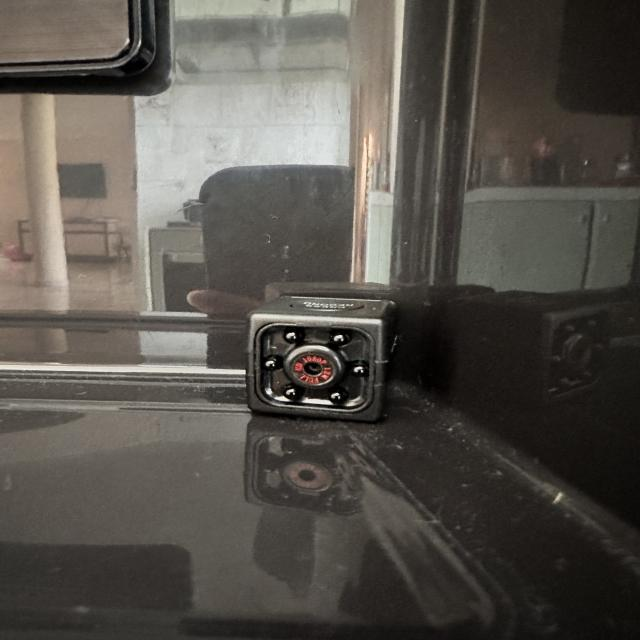hidden camera: (288, 352, 333, 385)
